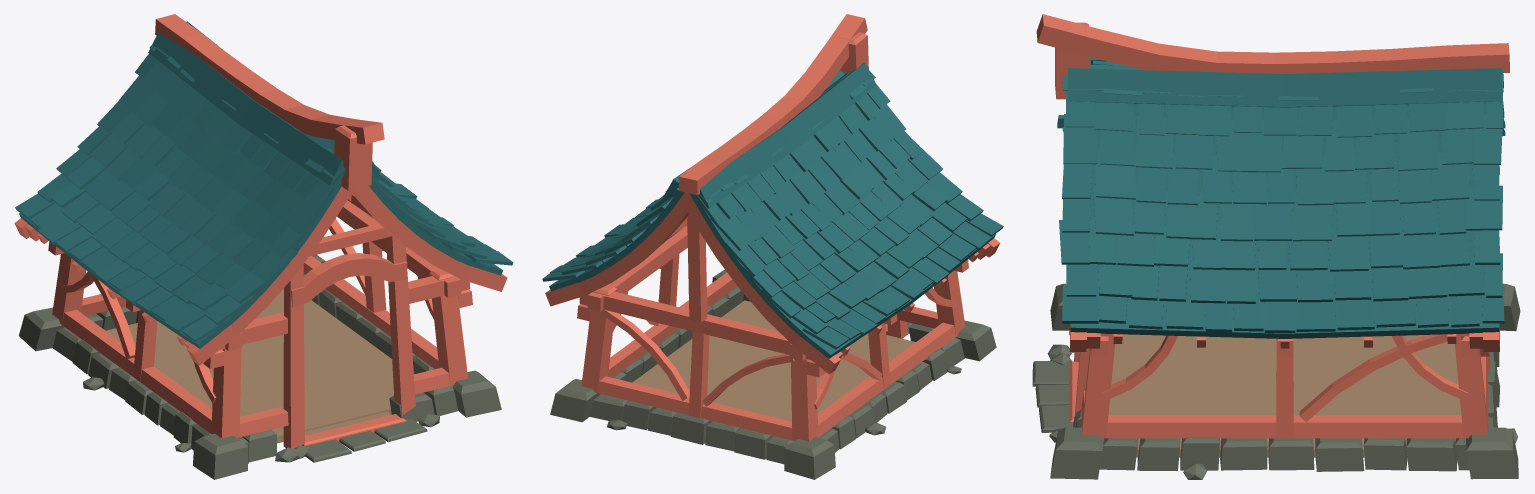
Rendered from cattle-shelter-roof.glb.
The picture shows the model from 3 angles, left to right: view 1: azimuth 30°, elevation 25°; view 2: azimuth 150°, elevation 25°; view 3: azimuth 270°, elevation 25°; orthographic projection. The views are drawn at different scales.
Visible parts, largest first — view 1: roof_shingles, timber_frame, stone_footing, floor, roof_timbers; view 2: roof_shingles, timber_frame, stone_footing, roof_timbers, floor; view 3: roof_shingles, floor, stone_footing, timber_frame, roof_timbers.
Part boxes in pixels (x1,y1,x2,y2): roof_shingles: (15, 21, 513, 348); timber_frame: (25, 193, 472, 448); stone_footing: (19, 254, 501, 479); floor: (106, 288, 393, 443); roof_timbers: (14, 14, 507, 365); roof_shingles: (542, 62, 1003, 358); timber_frame: (577, 214, 990, 441); stone_footing: (550, 269, 996, 479); roof_timbers: (545, 14, 999, 374); floor: (632, 300, 915, 421); roof_shingles: (1057, 57, 1505, 338); floor: (1108, 334, 1461, 457); stone_footing: (1032, 283, 1520, 479); timber_frame: (1069, 333, 1489, 438); roof_timbers: (1036, 14, 1509, 351).
Size of the model in its own units: 6.55 by 6.19 by 7.17.
